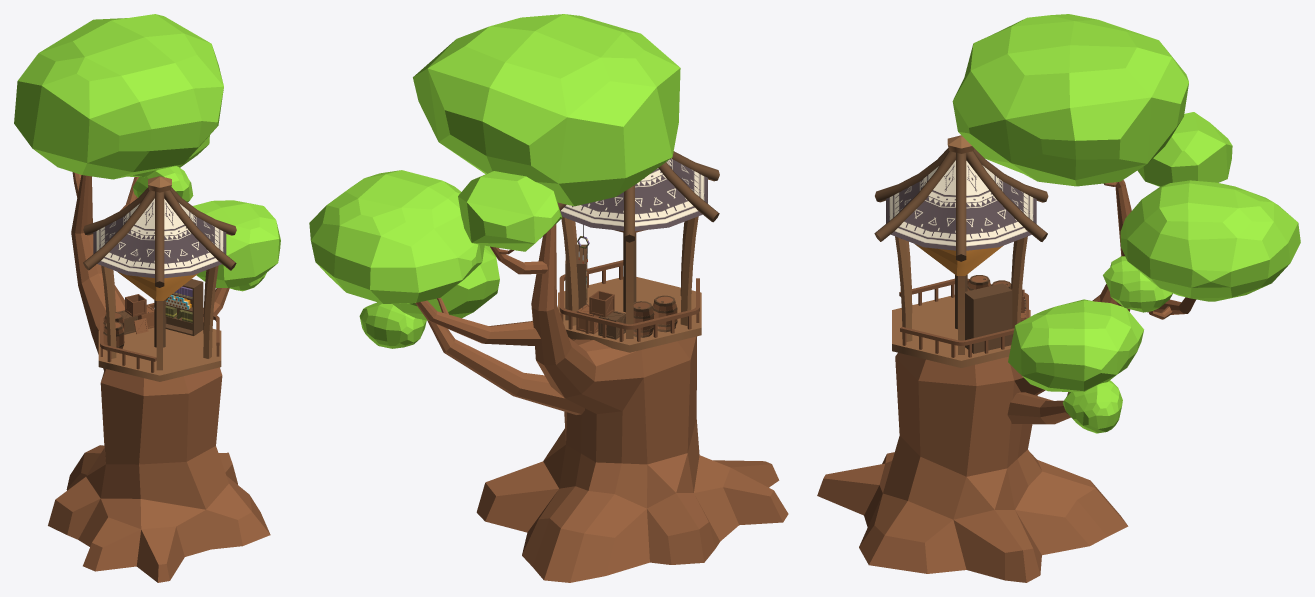
File: O_Tree-House_3.fbx
3 renders of one model, left to right at view 1: azimuth 30°, elevation 25°; view 2: azimuth 150°, elevation 25°; view 3: azimuth 270°, elevation 25°, orthographic. The views are drawn at different scales.
Visible parts, largest first — view 1: Tree, House, Roof, Book-Shelf, Box, Books; view 2: Tree, House, Roof, Box, Book-Shelf, Barrel.1; view 3: Tree, House, Roof, Book-Shelf.
Boxes of the visible parts, <box> form: Tree: <box>14,14,280,582</box>; House: <box>83,176,236,381</box>; Roof: <box>93,198,226,278</box>; Book-Shelf: <box>165,279,203,335</box>; Box: <box>118,294,154,334</box>; Books: <box>165,286,192,322</box>; Tree: <box>309,14,788,582</box>; House: <box>557,151,719,352</box>; Roof: <box>560,158,707,231</box>; Box: <box>576,290,625,339</box>; Book-Shelf: <box>565,244,587,320</box>; Barrel.1: <box>652,295,677,332</box>; Tree: <box>817,14,1300,582</box>; House: <box>874,135,1048,367</box>; Roof: <box>886,160,1036,250</box>; Book-Shelf: <box>965,283,1012,353</box>.
Size of the model in its own units: 8.83 by 13.77 by 12.08.
